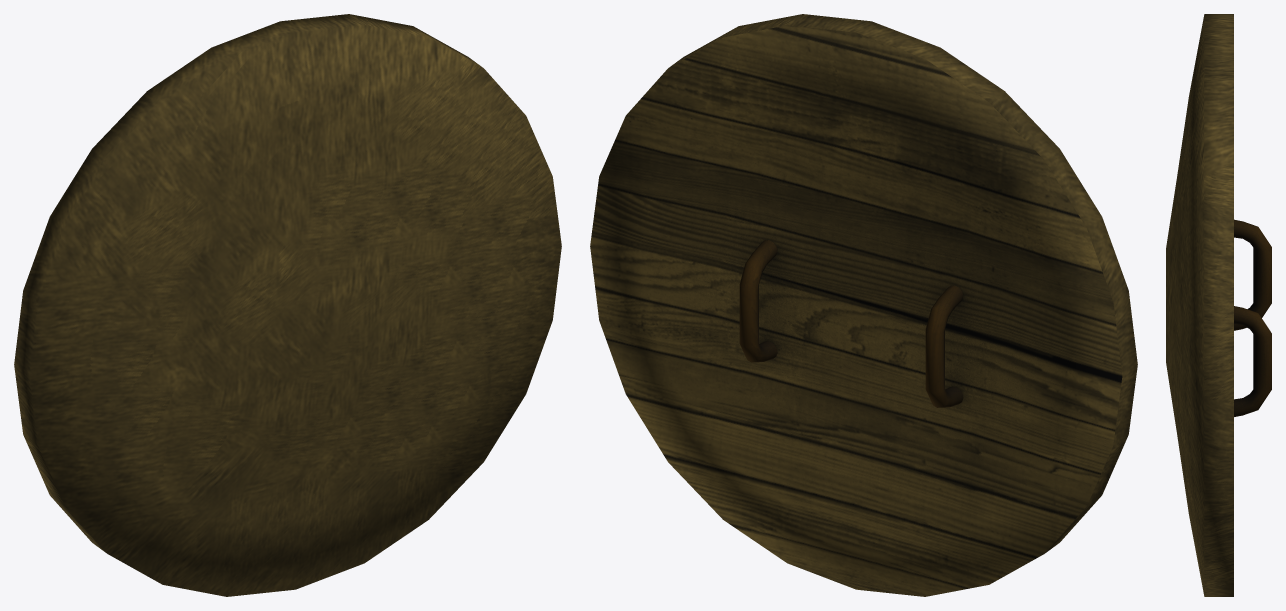
Rendered from Shield_wood.fbx.
The picture shows the model from 3 angles, left to right: view 1: azimuth 30°, elevation 25°; view 2: azimuth 150°, elevation 25°; view 3: azimuth 270°, elevation 25°; orthographic projection. The views are drawn at different scales.
Parts seen in each view (by area): view 1: Shield (leather); view 2: Shield (leather); view 3: Shield (leather).
Boxes of the visible parts, x1=… form: Shield (leather): x1=14, y1=14, x2=561, y2=596; Shield (leather): x1=590, y1=14, x2=1137, y2=596; Shield (leather): x1=1166, y1=14, x2=1271, y2=596.
Size of the model in its own units: 300 by 300 by 54.26.
